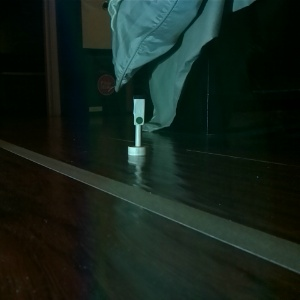traffic light green: (125, 94, 150, 159)
